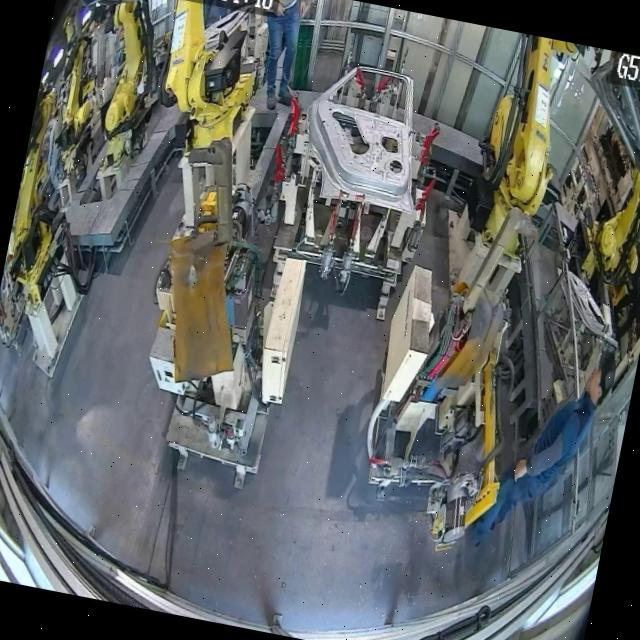Person: (471, 331, 618, 568), (236, 0, 314, 113)
